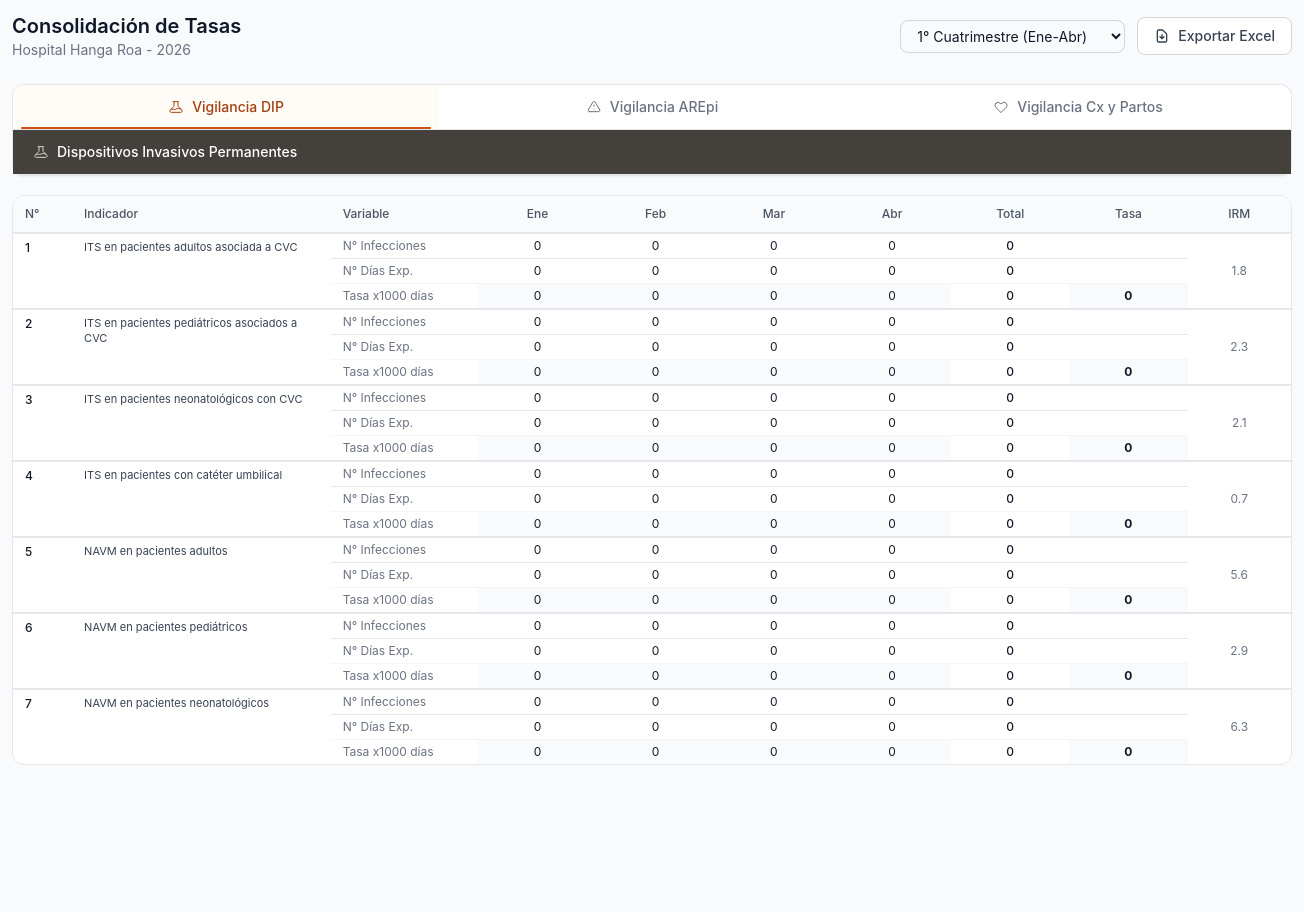
ConsolidacionPage › switches back to DIP from another tab
Step 1. Click the button "Vigilancia AREpi" → [652, 107], box [439,85,865,129]
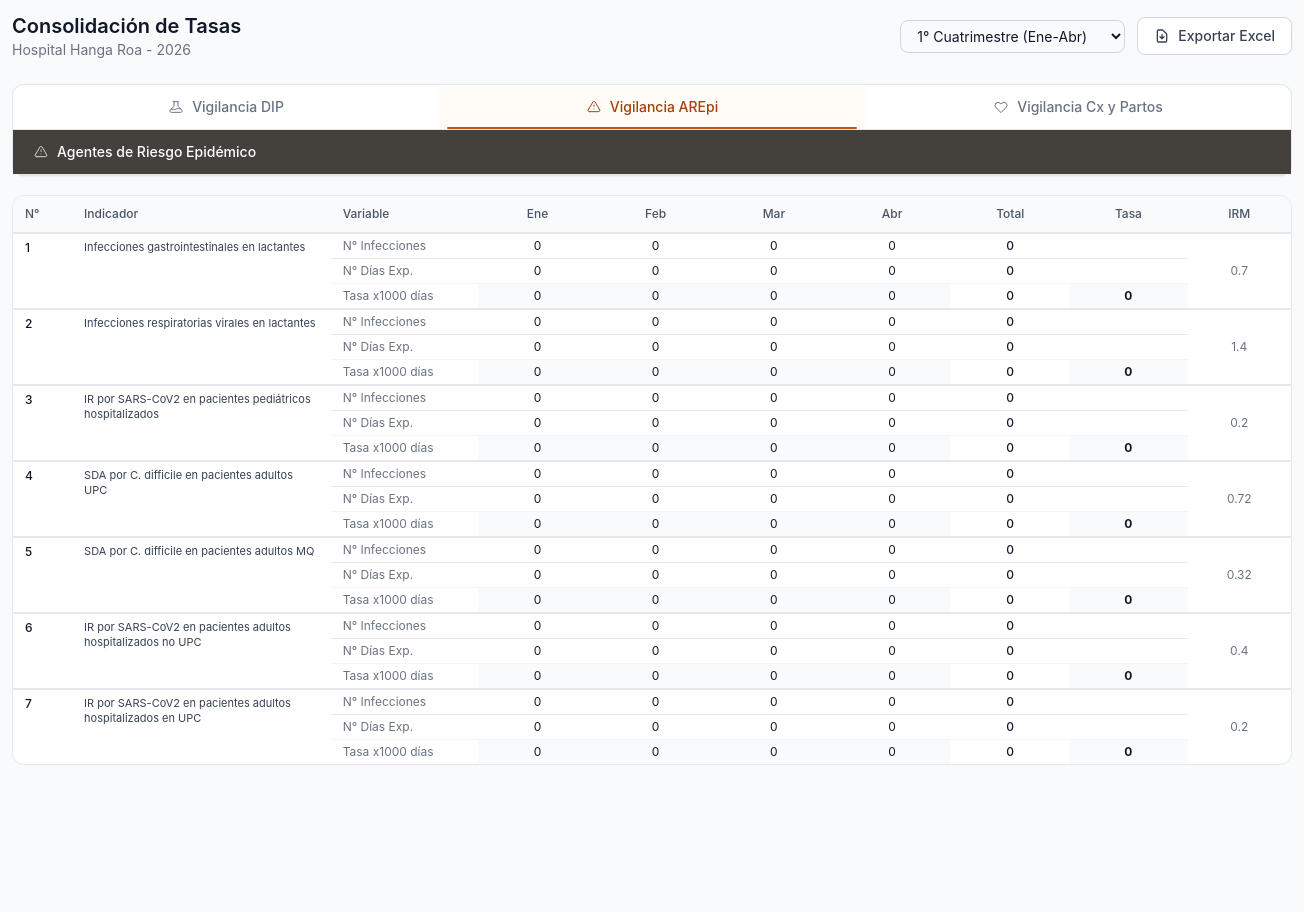
Step 2. Click the button "Vigilancia DIP" → [226, 107], box [13,85,439,129]
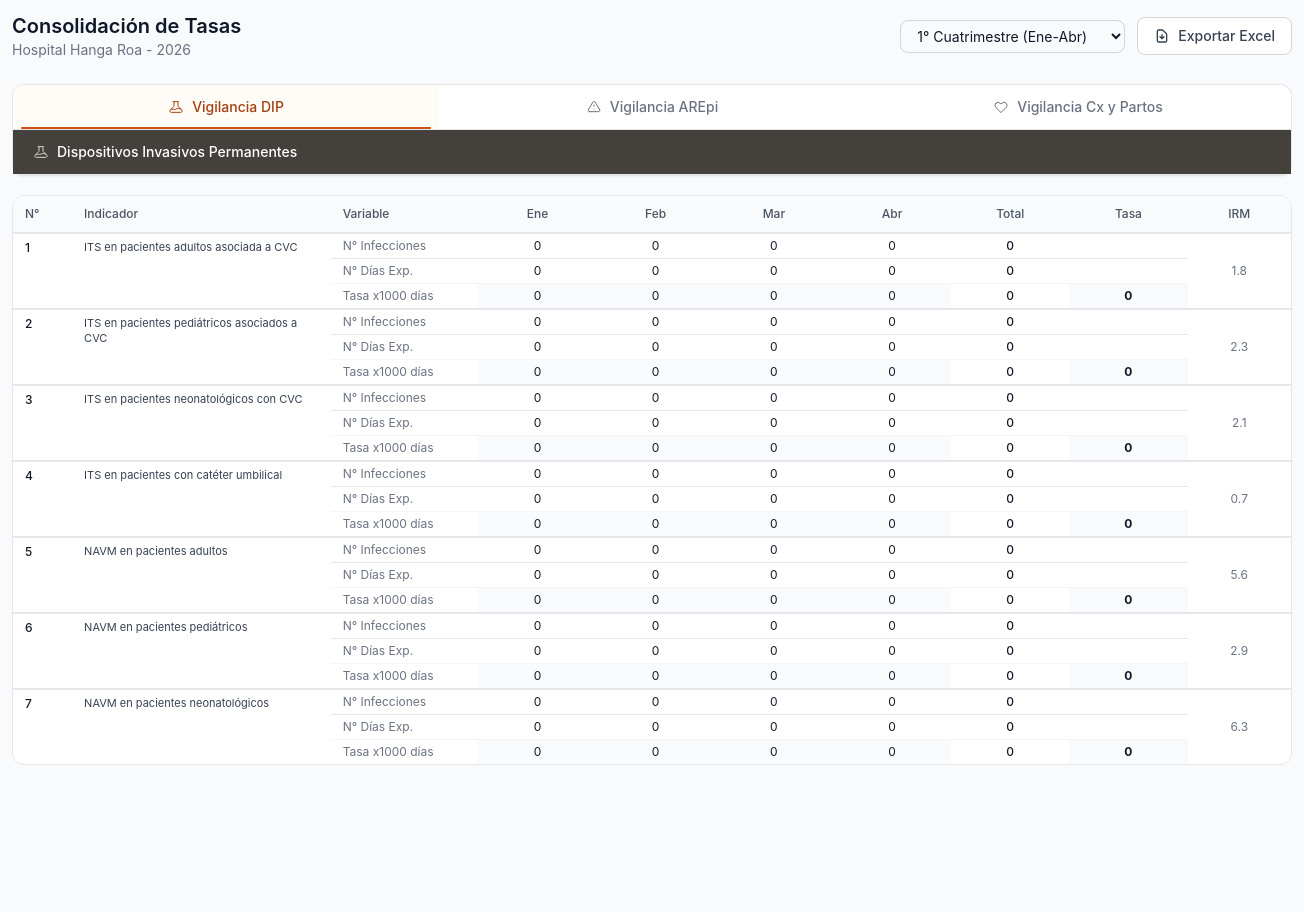
Result: the text "ITS en pacientes adultos asociada a CVC" is shown at [72,233,331,309]
